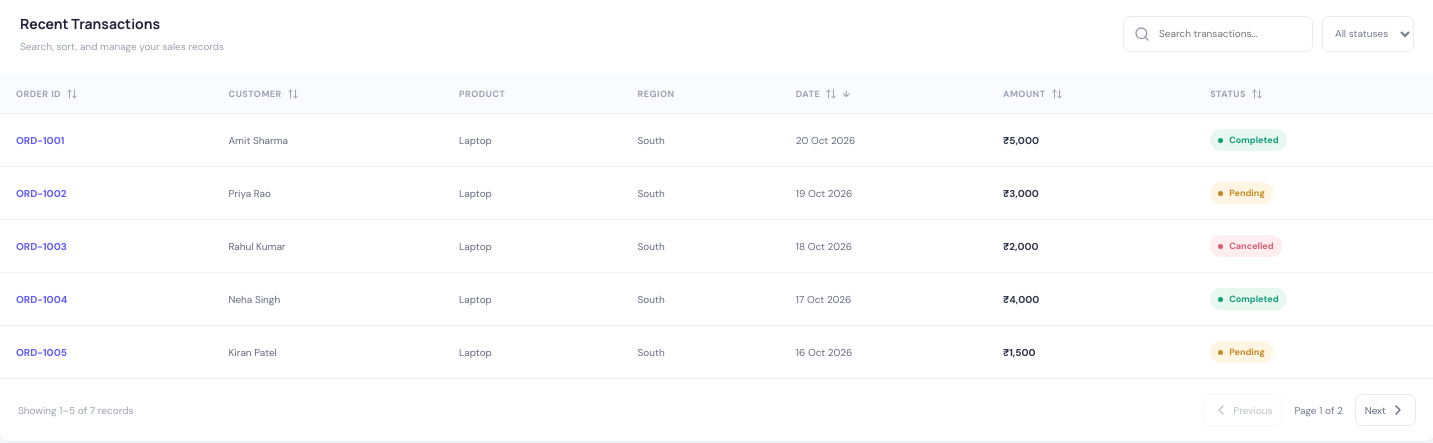
TransactionsTable › disables pagination buttons when appropriate
Expected: the button with aria-label "Previous page" is disabled, [1203,394,1282,426]
Click the button with aria-label "Next page" at (1385, 410), box [1355,394,1416,426]
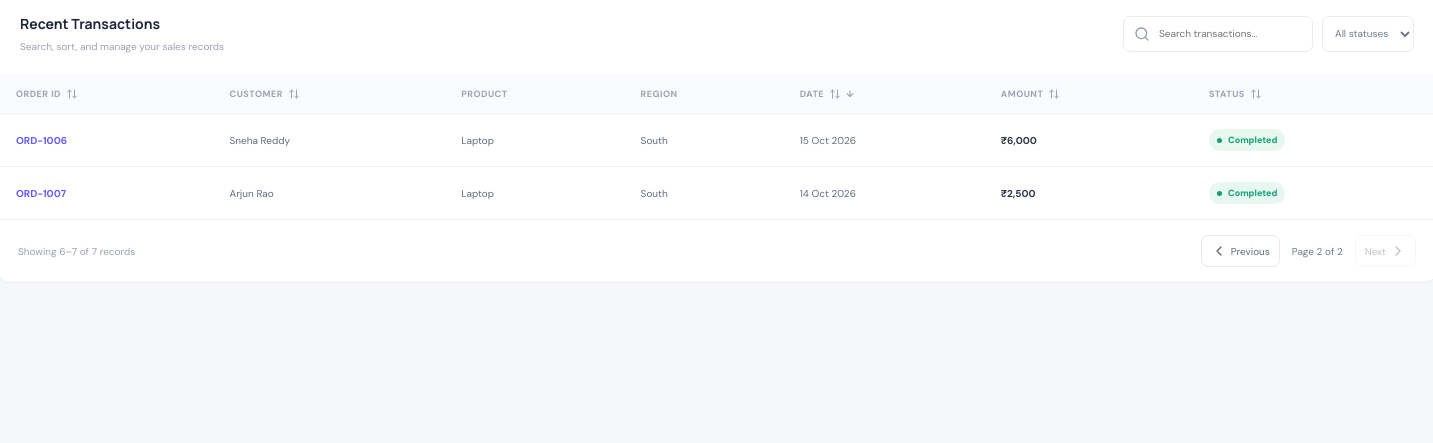
Now the button with aria-label "Next page" is disabled, box [1355,235,1416,267]
Now the button with aria-label "Previous page" is enabled, box [1201,235,1280,267]
